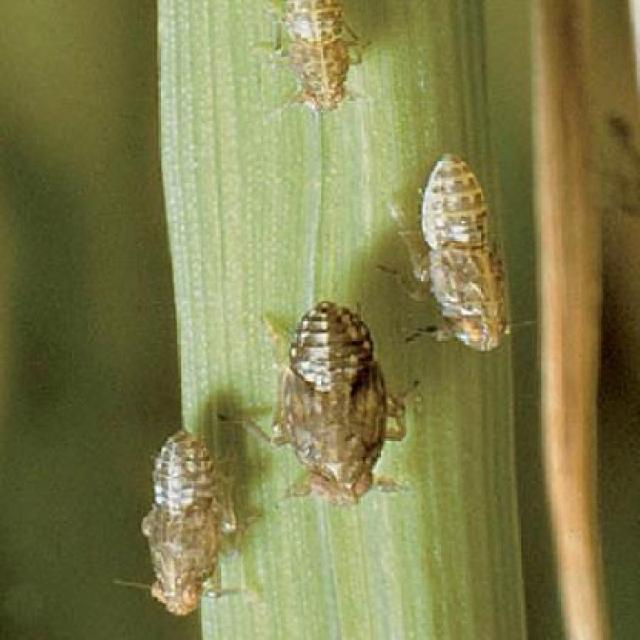brown-planthopper: (258, 301, 400, 505), (395, 145, 522, 353), (134, 429, 246, 617), (276, 0, 367, 120)
